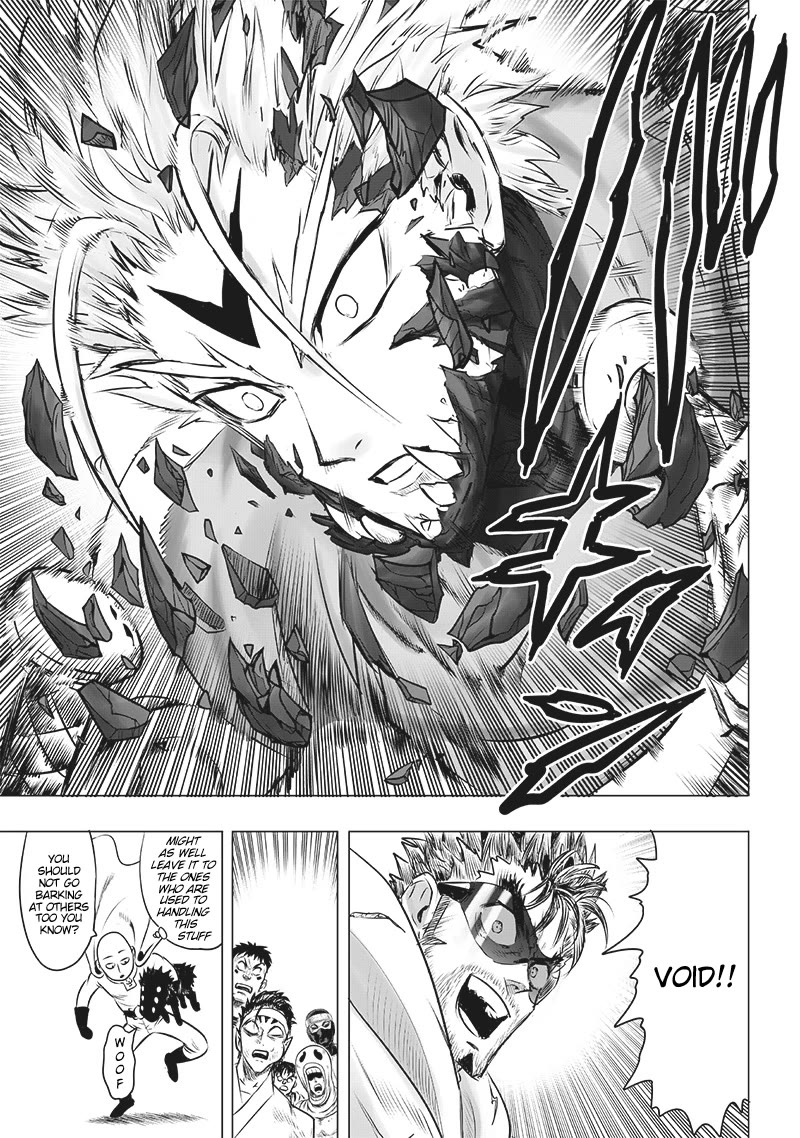bubble: (603, 830, 749, 1137), (19, 831, 97, 970), (140, 830, 223, 949), (104, 1025, 137, 1098)
